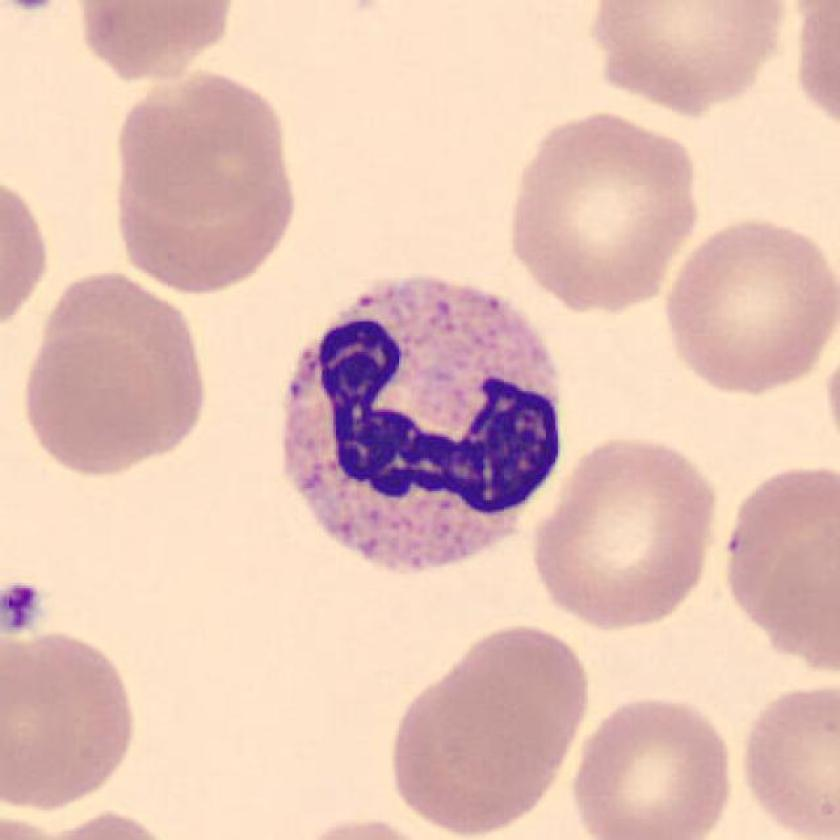neutrophil: (286, 275, 559, 572)
